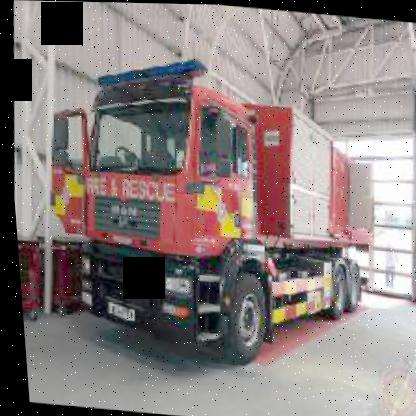emergency: (24, 28, 409, 395)
